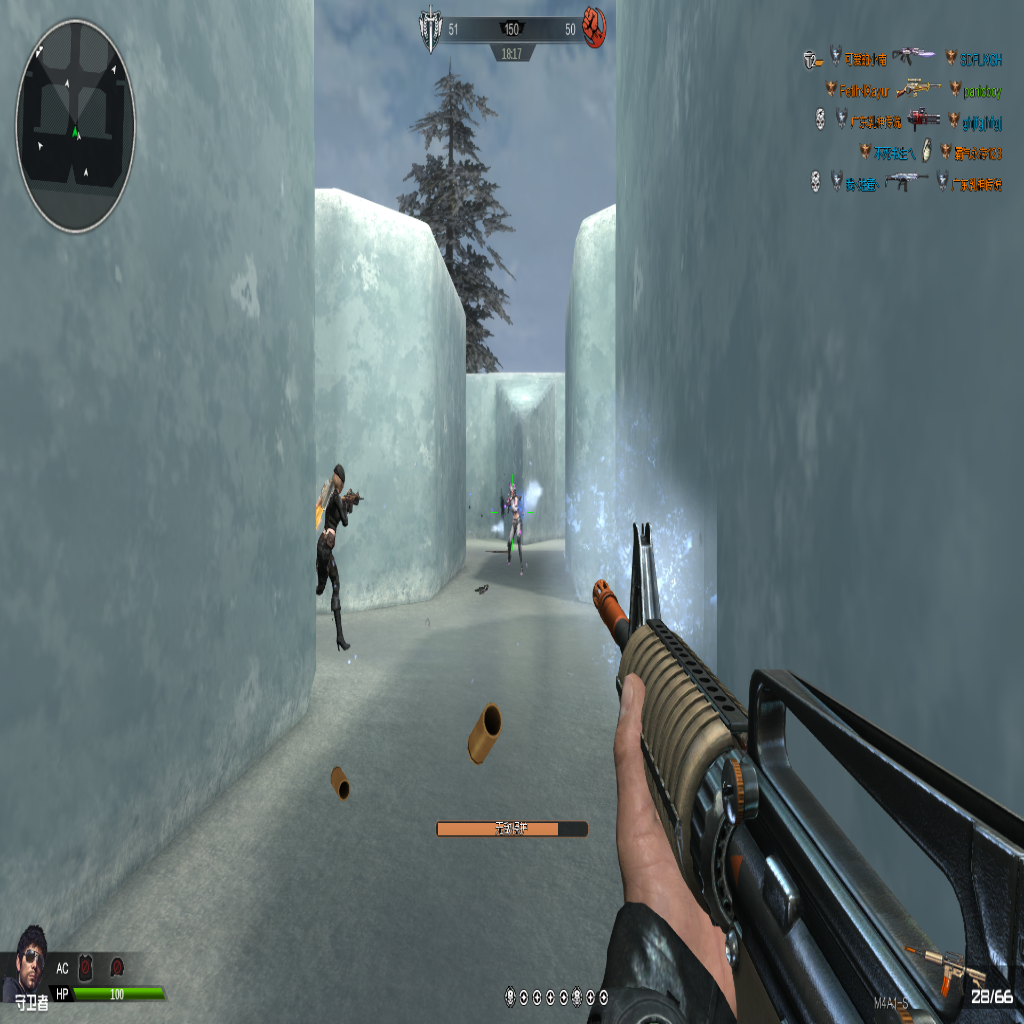ct: (315, 462, 361, 655)
tt: (502, 482, 526, 575)
